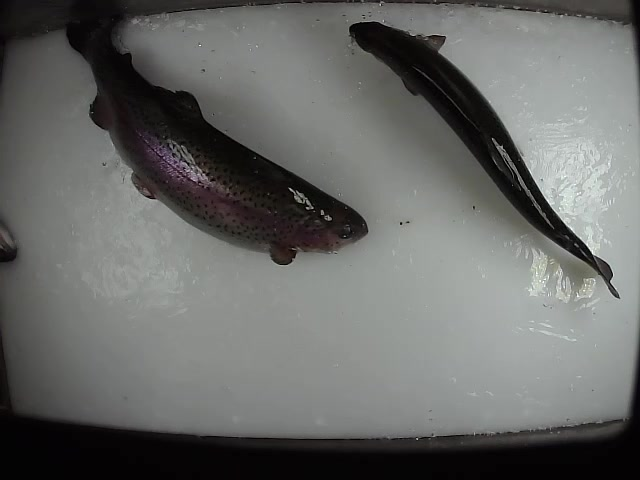fish: (65, 12, 370, 266), (346, 21, 622, 300)
